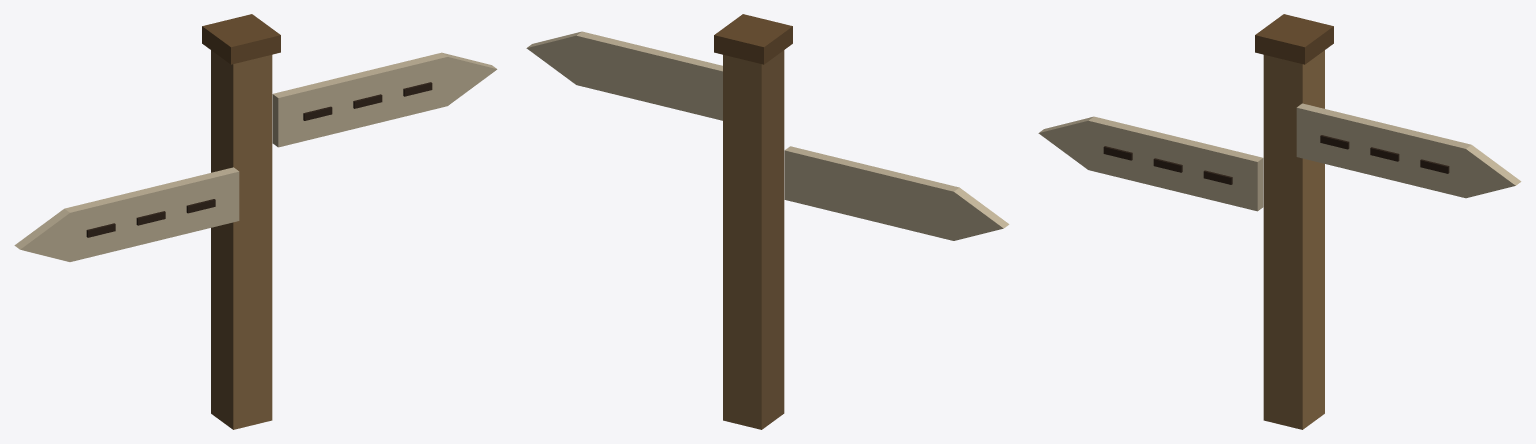
File: Mtn_Sign.fbx
3 views of the same model, side by side, from view 1: azimuth 30°, elevation 25°; view 2: azimuth 150°, elevation 25°; view 3: azimuth 330°, elevation 25° (orthographic).
Visible parts, largest first — view 1: Mtn_Sign; view 2: Mtn_Sign; view 3: Mtn_Sign.
Part boxes in pixels (left/top/right/bottom): Mtn_Sign: left=14, top=14, right=497, bottom=429; Mtn_Sign: left=526, top=14, right=1009, bottom=429; Mtn_Sign: left=1038, top=14, right=1521, bottom=429.
Bounding box in the file's own units: 8.6 × 6.65 × 1.03.
